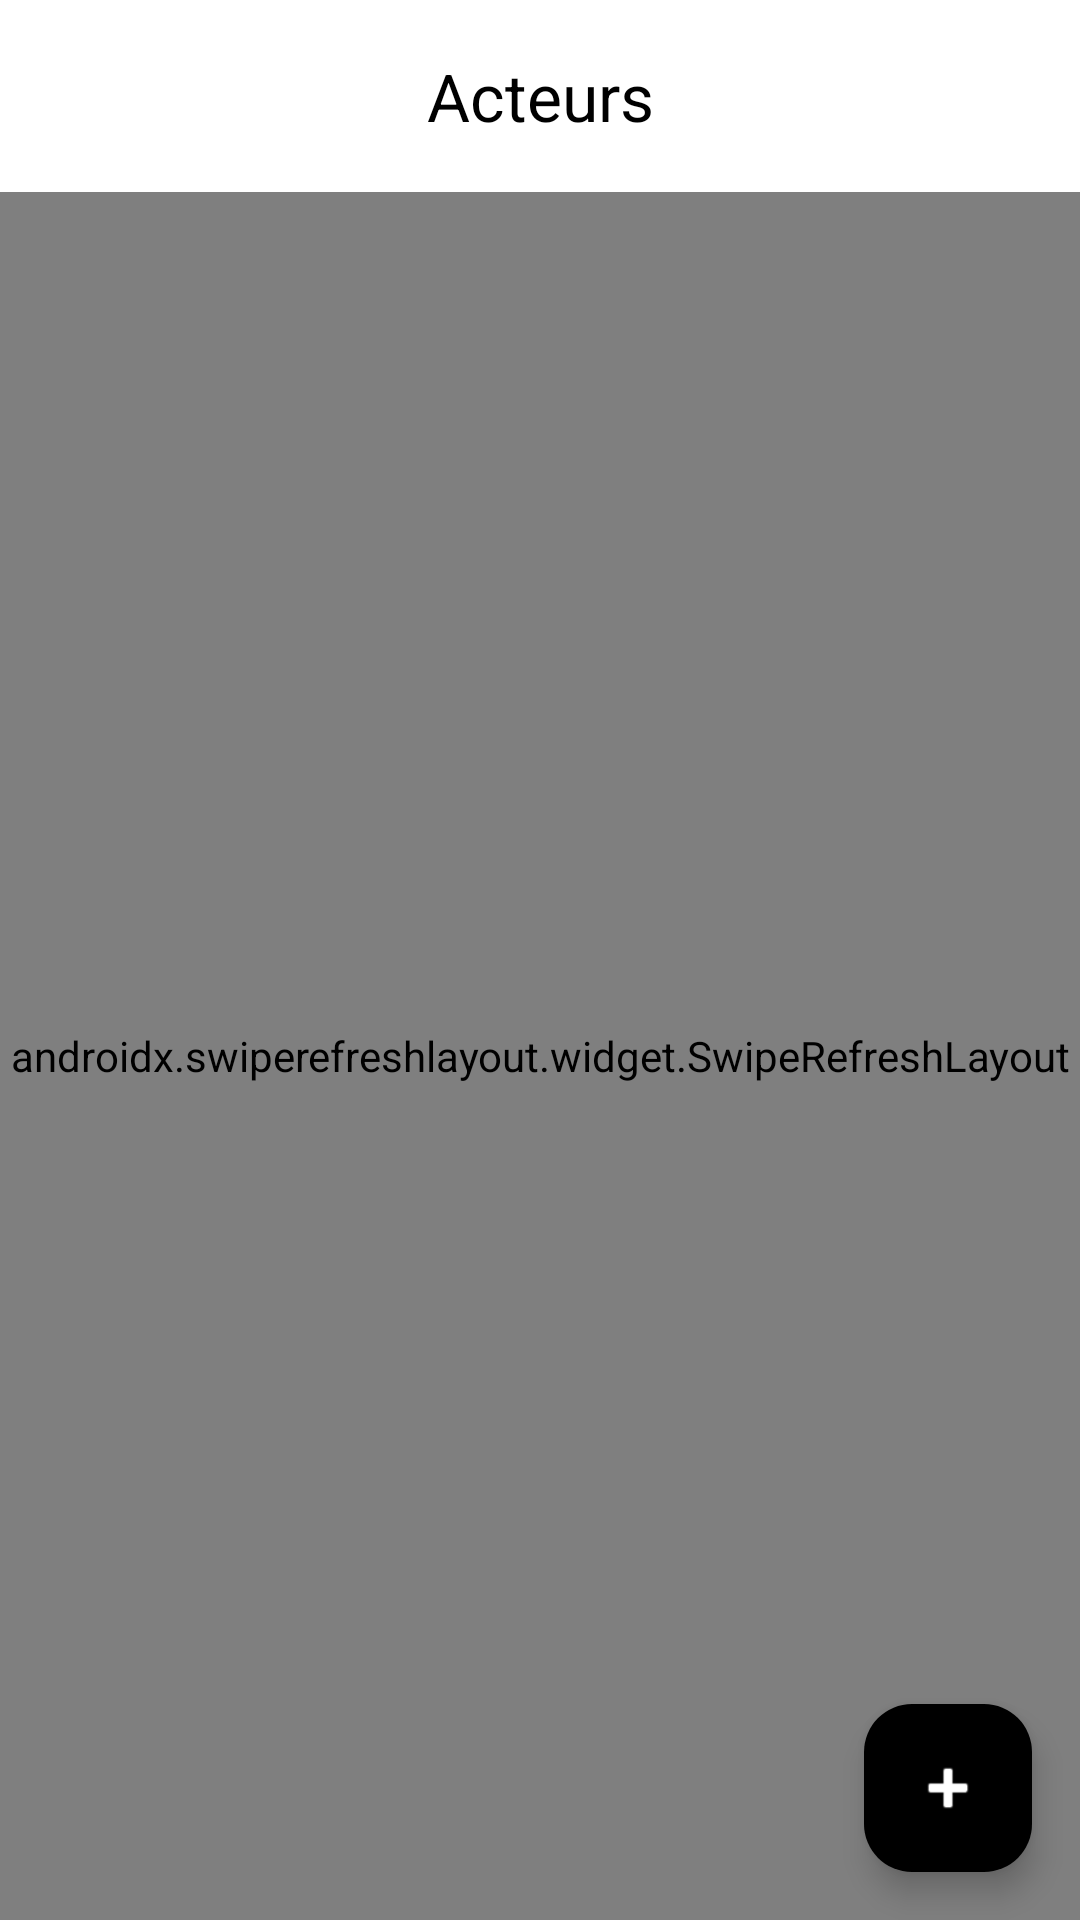

Screen size 1080×1920. Icon name, then its box in pixels as (x1, y1, x2, y2):
Ajouter: (864, 1704, 1032, 1872)
